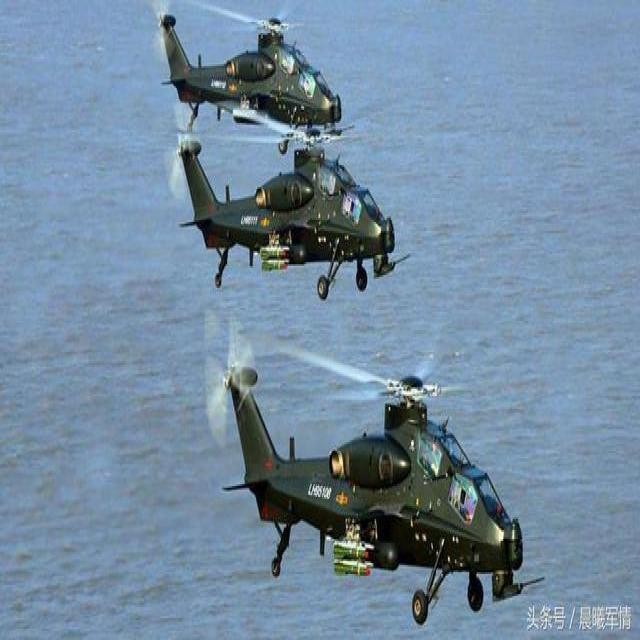MIL_HELO: (189, 304, 551, 629), (159, 103, 409, 304), (136, 0, 359, 146)
